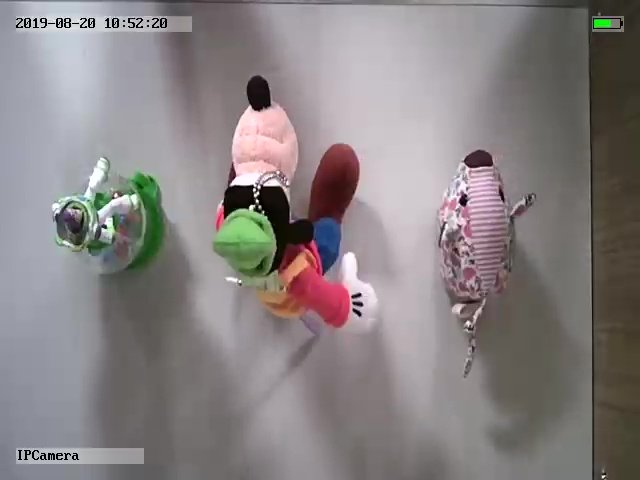buzz: (51, 154, 165, 277)
goofy: (211, 74, 379, 333)
pig: (437, 148, 538, 379)
